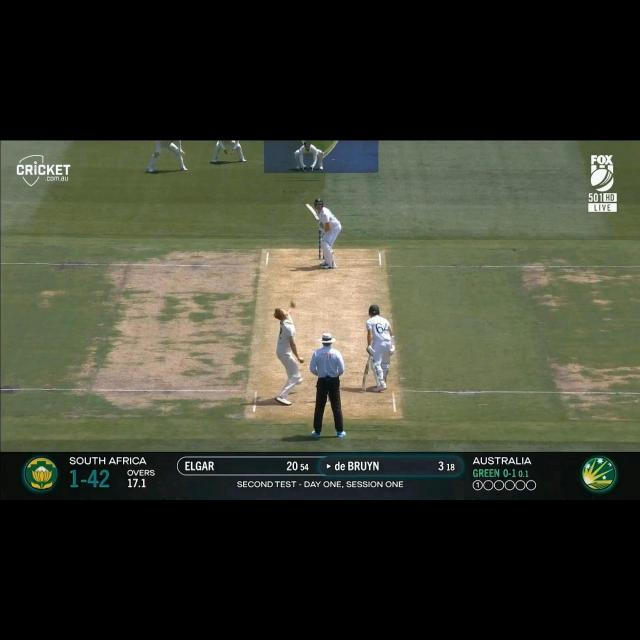bat: (305, 204, 320, 221), (362, 363, 369, 392)
toe: (360, 388, 367, 392), (306, 204, 312, 208)
